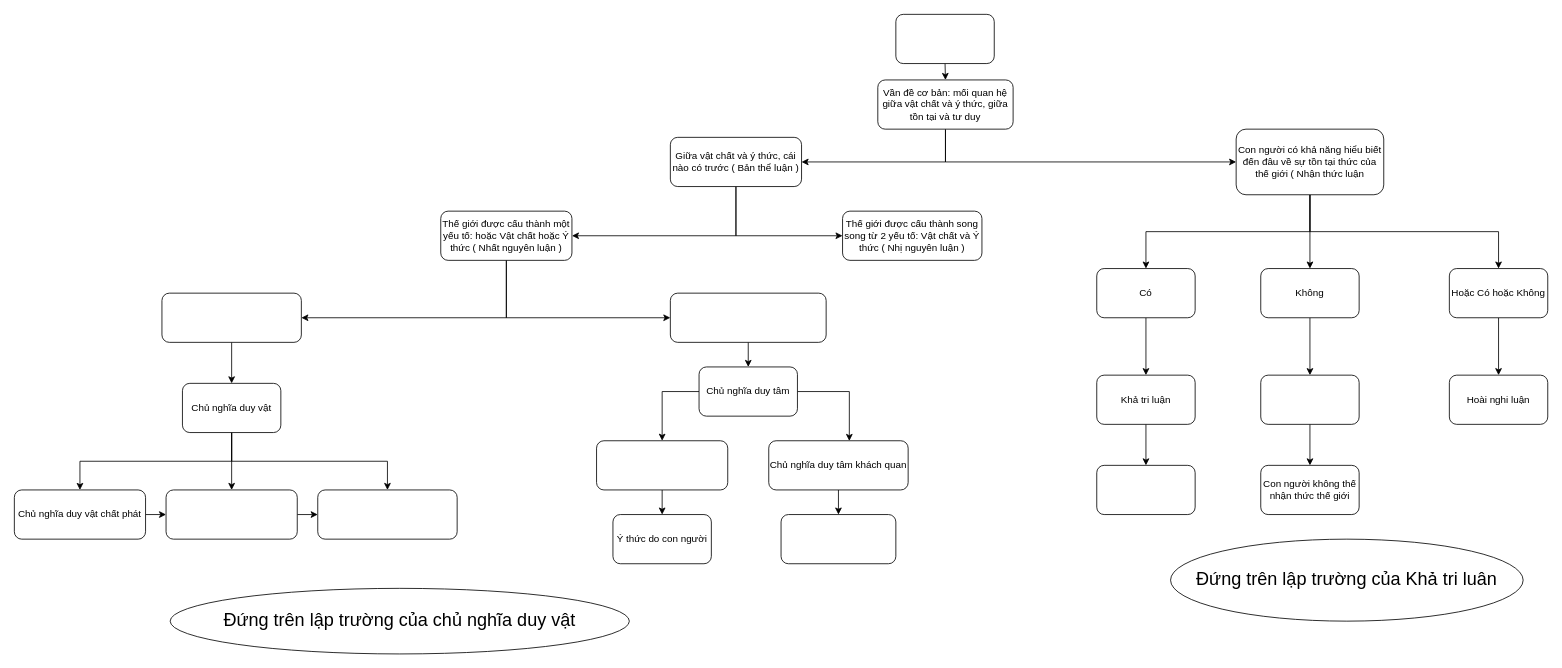
Some shapes in this 1562 by 668 pixel diagram are drawn without their labels. Each missing label, with the box of its shape:
Bất khả tri luận: (1260, 374, 1359, 424)
Chủ nghĩa duy tâm chủ quan: (596, 440, 728, 490)
Chủ nghĩa duy vật biện chứng: (317, 489, 457, 539)
Chủ nghĩa duy vật siêu hình: (165, 489, 297, 539)
Con người có thế nhận thức thế giới: (1096, 465, 1195, 515)
Vấn đề cơ bản của triết học: (895, 14, 994, 64)
Vật chất có trước Ý thức Vật chất quyết định Ý thức: (161, 292, 301, 342)
Ý thức có trước Vật chất Ý thức quyết định Vật chất: (670, 292, 826, 342)
Ý thức do lực lượng siêu nhiên bên ngoài: (780, 514, 896, 564)
